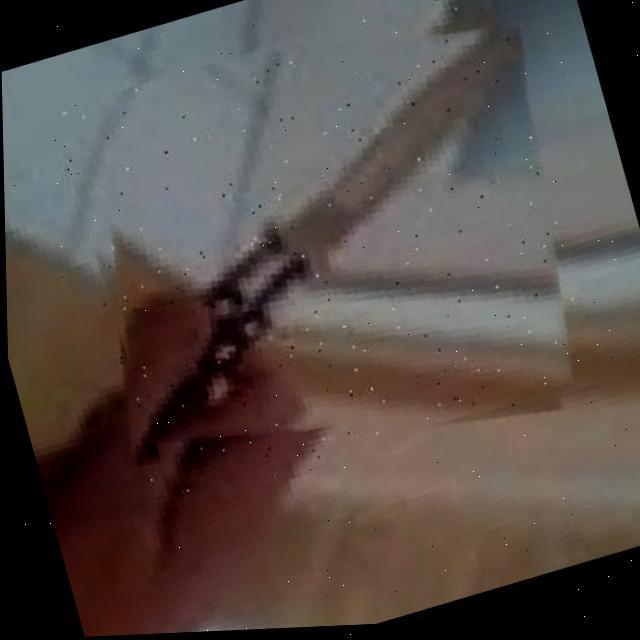knife: (47, 0, 603, 516)
